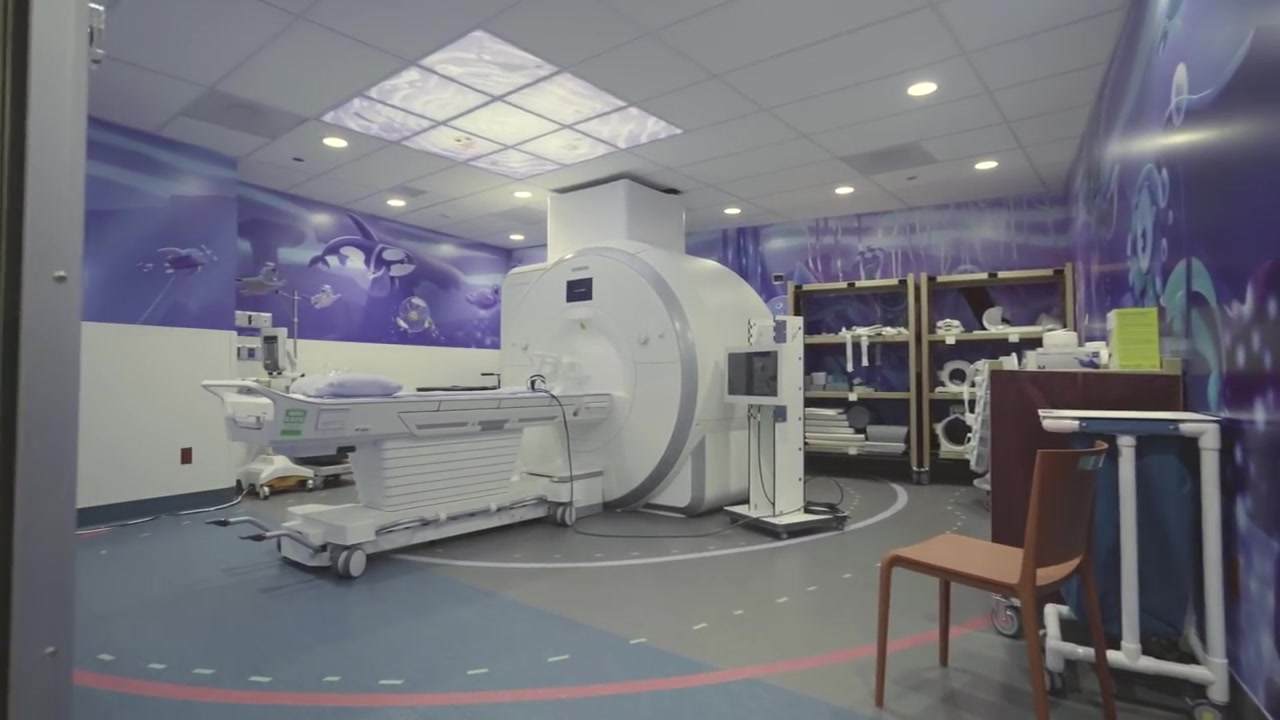cabinet: (786, 269, 1073, 477)
chair: (872, 439, 1115, 720)
dispenser: (257, 326, 288, 371)
iv_pole: (277, 285, 309, 373)
waste_bin: (1036, 410, 1230, 720)
xray_bed: (202, 378, 612, 578)
xray_machine: (499, 179, 805, 532)
